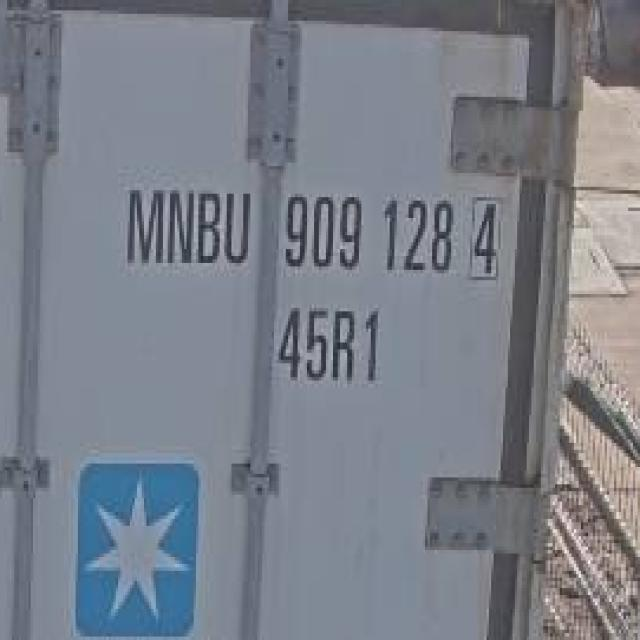dv: (463, 188, 508, 286)
owner: (124, 178, 253, 282)
serial: (279, 183, 456, 284)
size: (276, 295, 385, 387)
